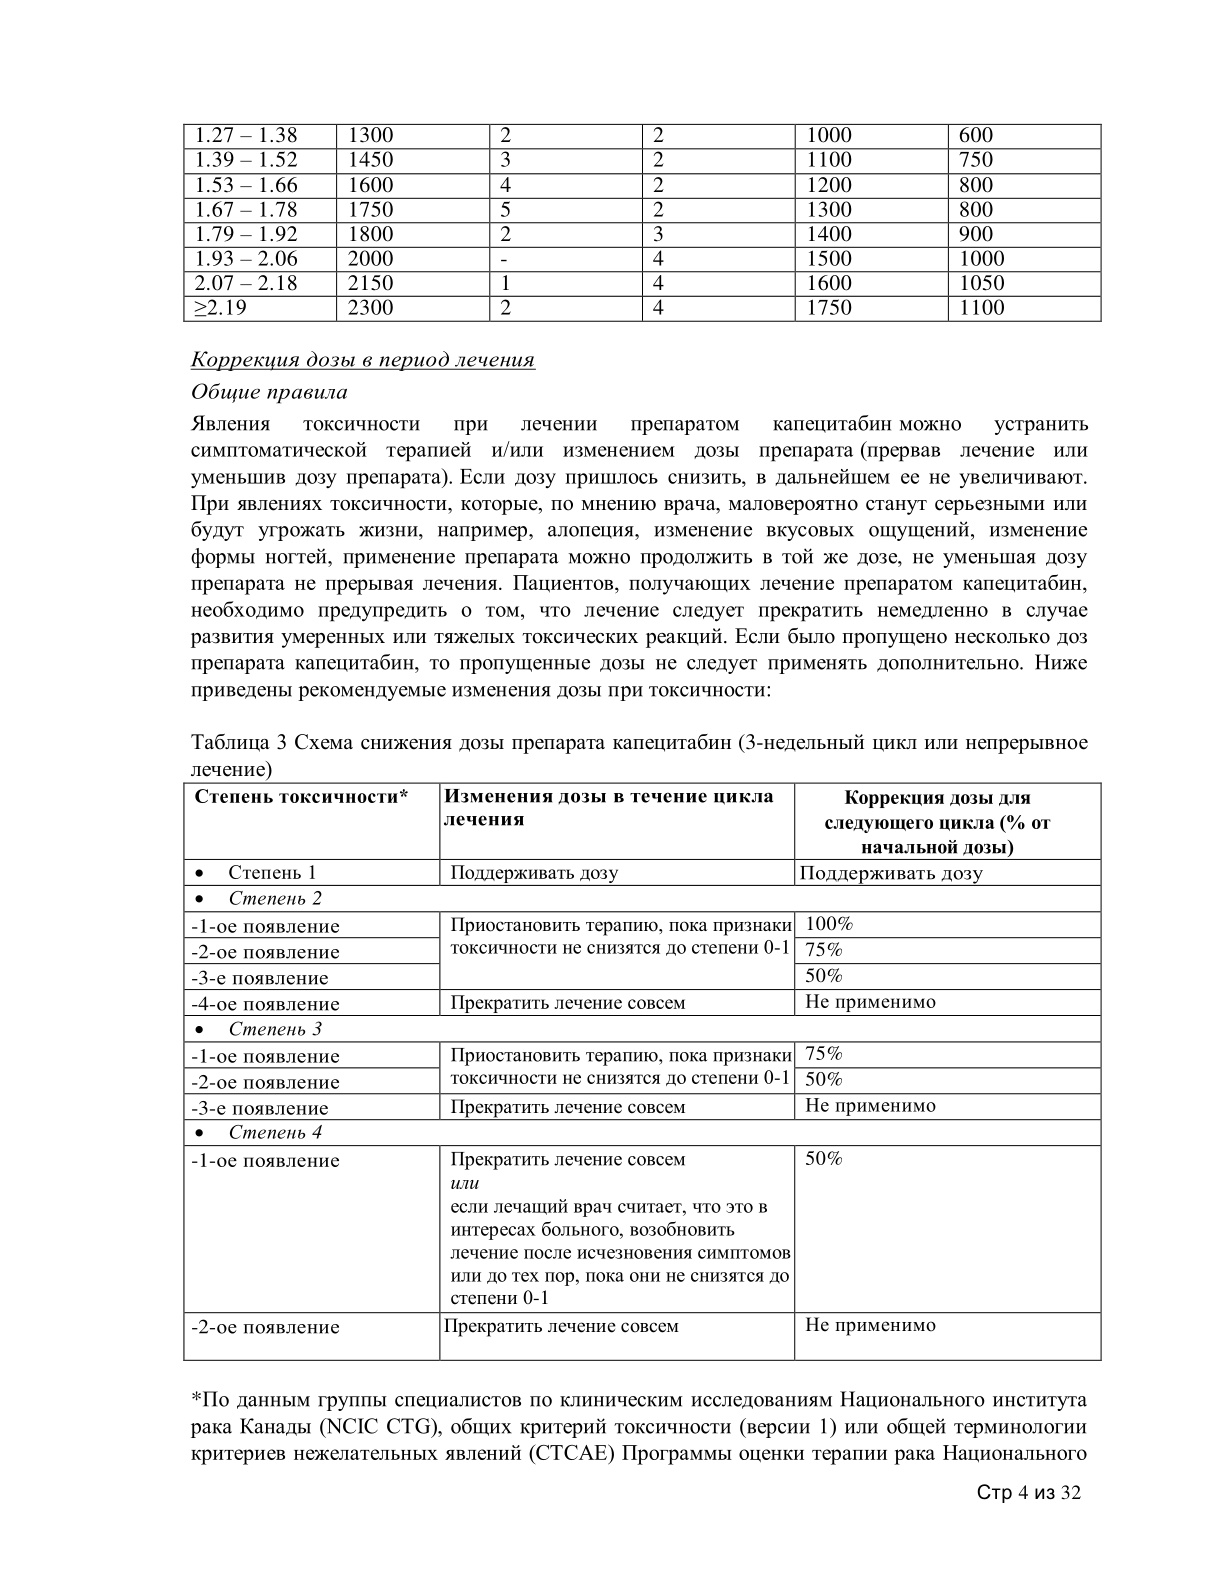full_lined: (183, 122, 1103, 323)
merged_cells: (183, 780, 1102, 1362)
